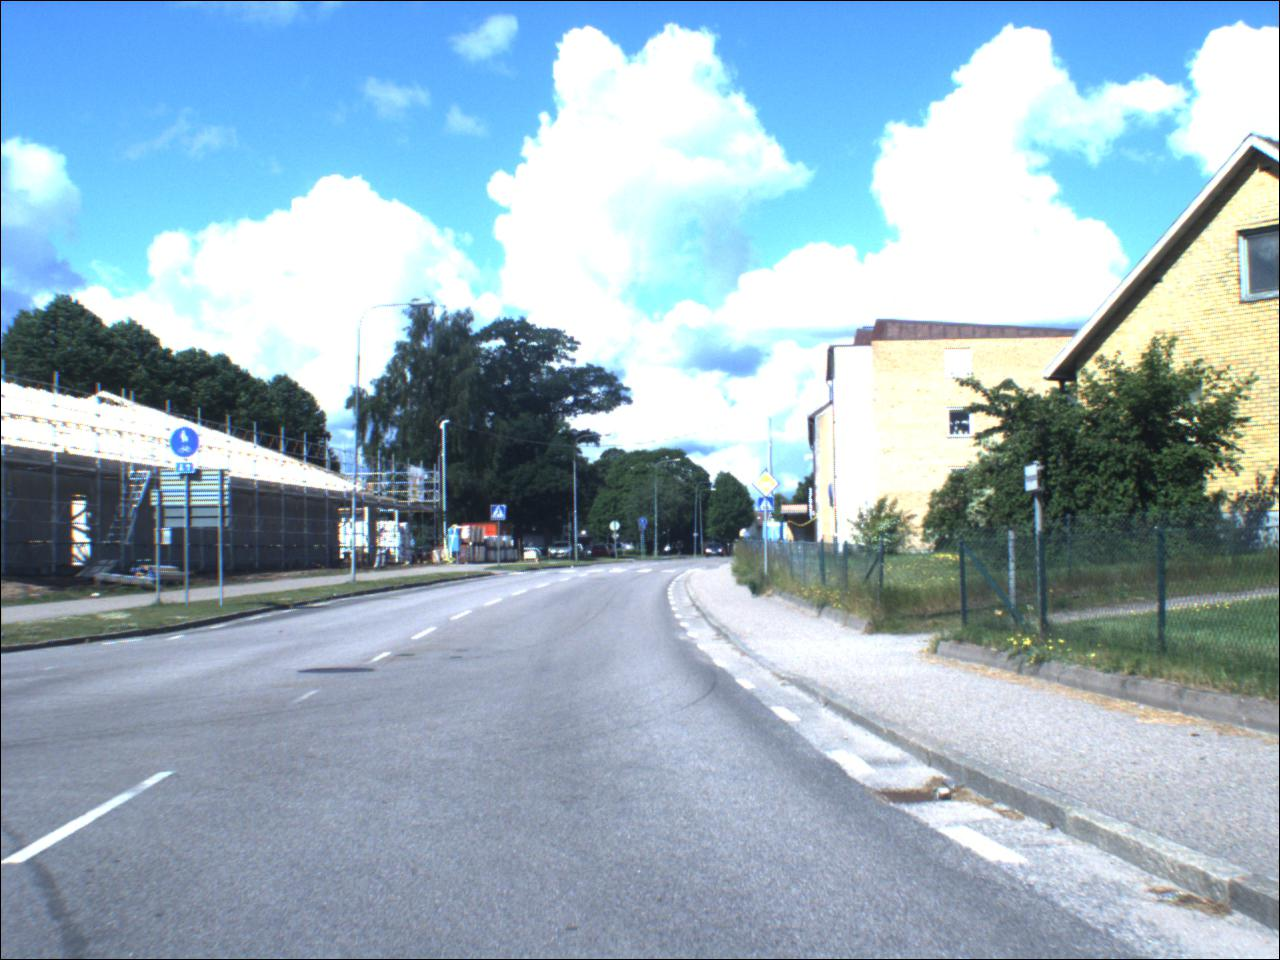PEDESTRIAN_CROSSING: (493, 506, 509, 524), (760, 499, 776, 515)
PRIORITY_ROAD: (757, 470, 785, 501)
